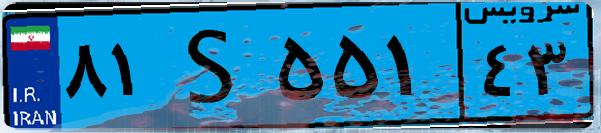1: (385, 28, 445, 110), (110, 28, 158, 98)
3: (525, 38, 570, 115)
4: (475, 38, 525, 113)
5: (270, 28, 330, 110), (330, 28, 385, 110)
8: (57, 26, 110, 100)
S: (158, 12, 270, 120)
